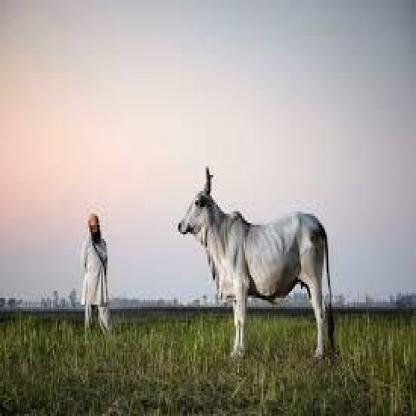cow: (177, 165, 337, 358)
